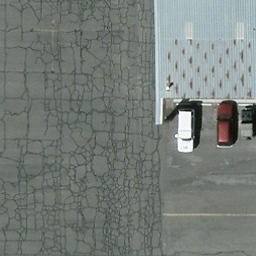car: (213, 103, 233, 148), (177, 108, 196, 153)
